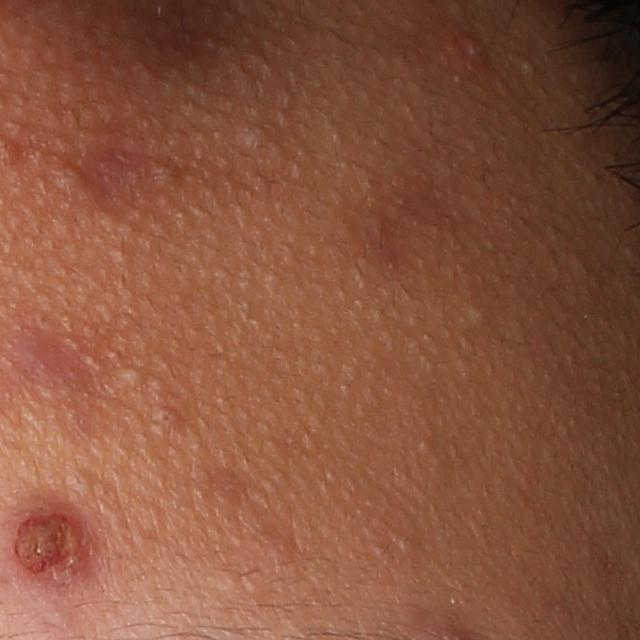comedo: (239, 124, 276, 157), (152, 406, 182, 431), (119, 364, 147, 389), (462, 304, 492, 325)
papule: (5, 502, 92, 587), (456, 30, 493, 70)
